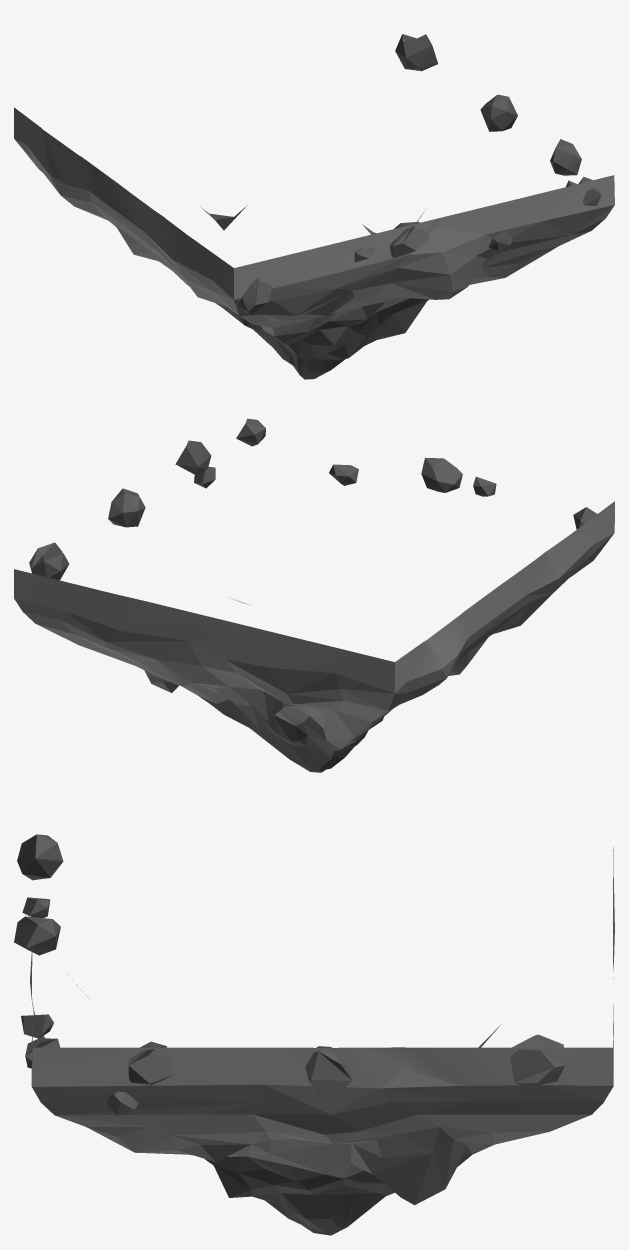
File: SpaceIsland.glb
3 renders of one model, top to bottom at view 1: azimuth 30°, elevation 25°; view 2: azimuth 150°, elevation 25°; view 3: azimuth 270°, elevation 25°, orthographic. The views are drawn at different scales.
Parts seen in each view (by area): view 1: Plane1; view 2: Plane1; view 3: Plane1.
Boxes of the visible parts, x1=… form: Plane1: x1=14, y1=34, x2=614, y2=379; Plane1: x1=14, y1=418, x2=614, y2=772; Plane1: x1=14, y1=834, x2=614, y2=1235.
Bounding box in the file's own units: 9.87 × 5.56 × 9.76.
Materials: 3 (2 with a texture image).
